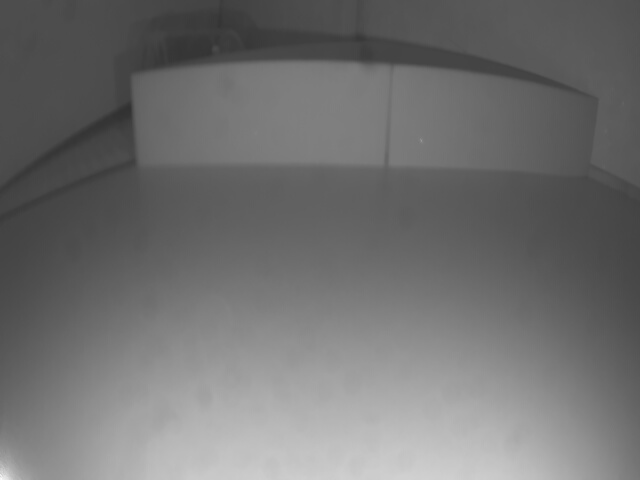Red: (130, 68, 597, 175)
